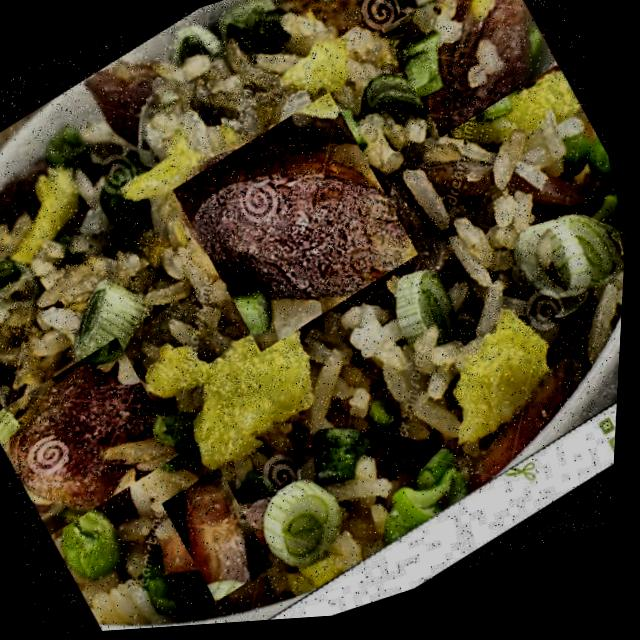Food: (153, 76, 439, 375), (0, 322, 197, 548), (368, 0, 572, 156), (151, 466, 293, 610)
